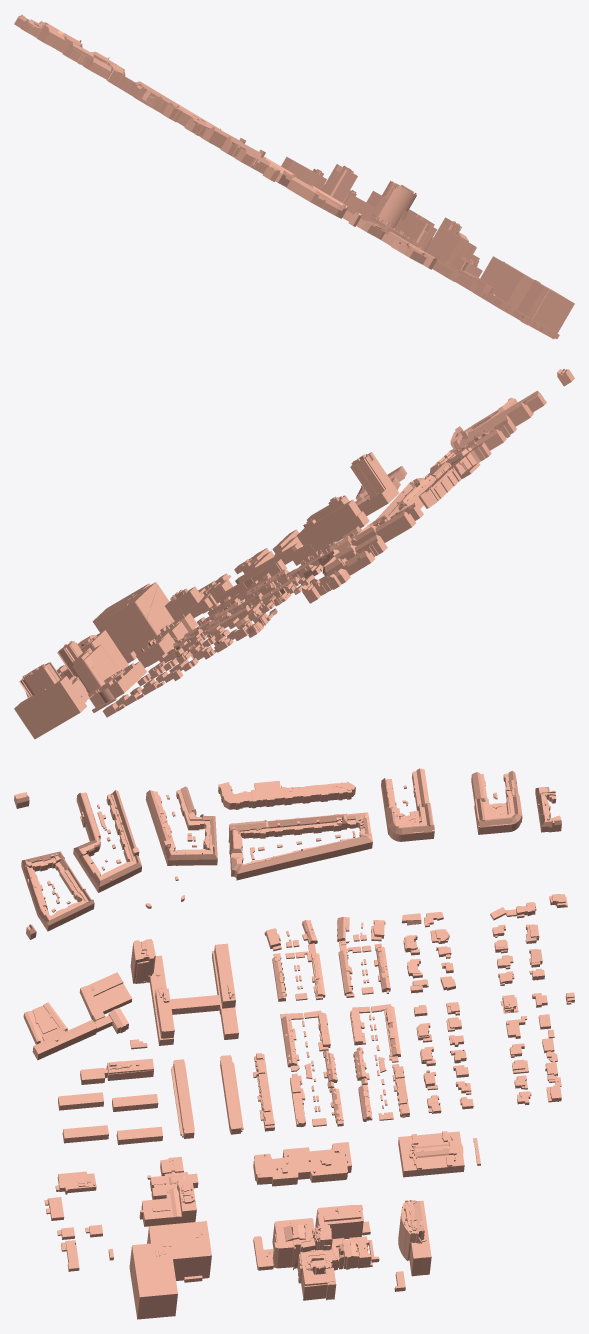
3 renders of one model, top to bottom at view 1: azimuth 30°, elevation 25°; view 2: azimuth 150°, elevation 25°; view 3: azimuth 270°, elevation 25°, orthographic. The views are drawn at different scales.
Size of the model in its own units: 1.94e+07 by 1.39e+07 by 2.05e+07.
